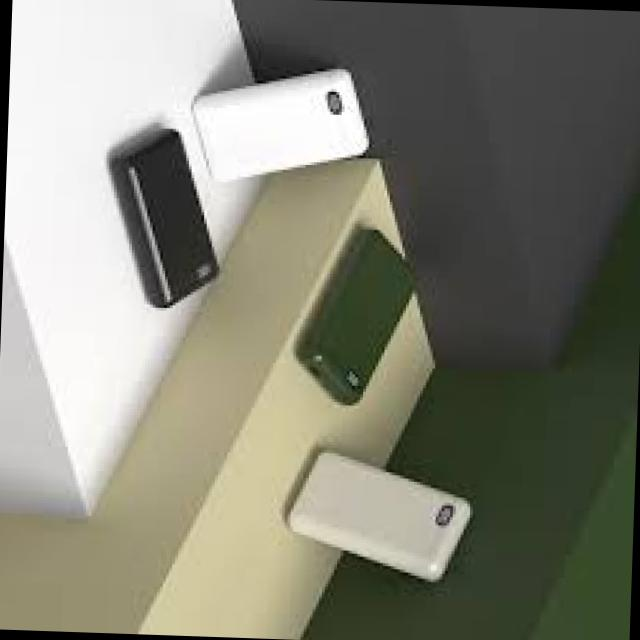power_bank: (276, 448, 474, 583), (292, 220, 422, 410), (187, 59, 370, 188), (107, 132, 230, 316)
